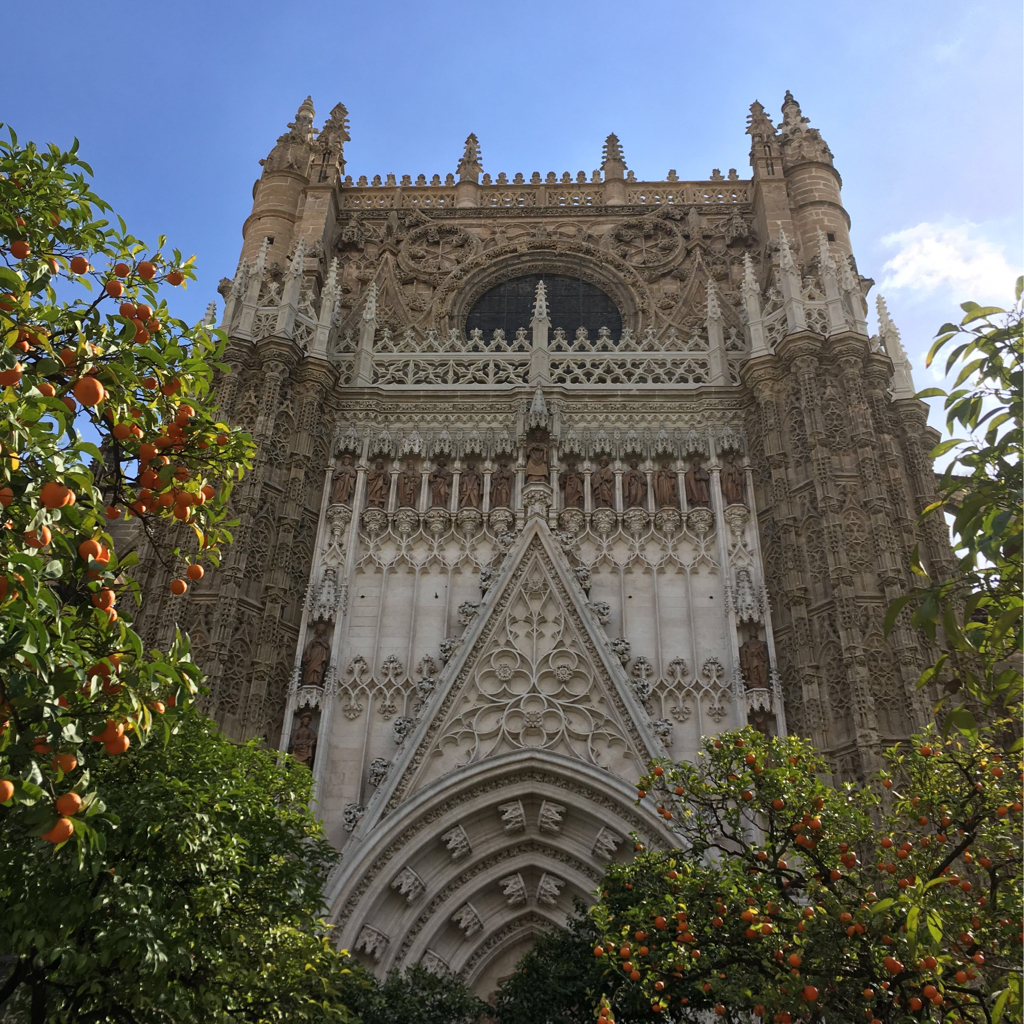arco-apuntado: (336, 756, 684, 977)
pinaculo-gotico: (596, 125, 627, 170), (456, 127, 483, 173)
